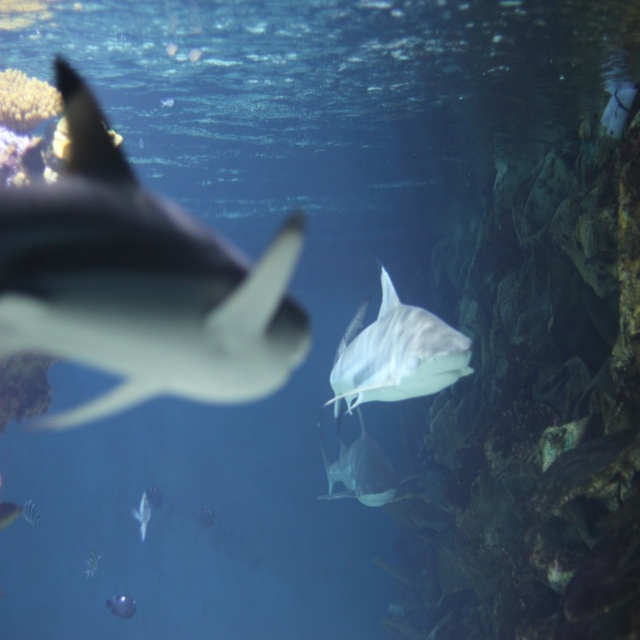Shark: (0, 57, 314, 432), (329, 267, 477, 412), (320, 414, 421, 504)
